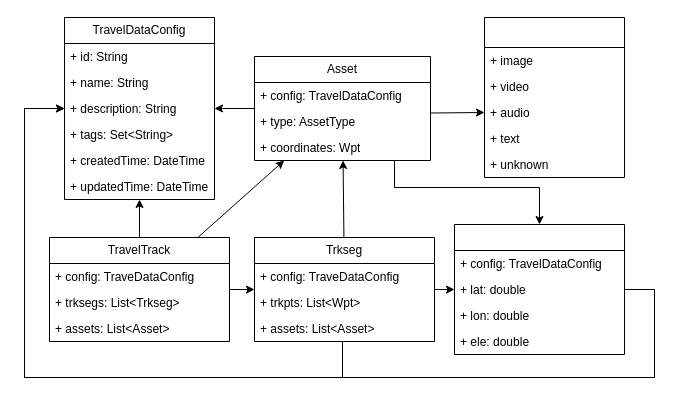
Image size: 680x403. Some labels were removed from this diagram. The shapes that lost their labels are listed below. From the top down, each one's box as (x1, y1, x2, y2) in pixels, then its label:
(484, 16, 624, 178): <<enum>> AssetType
(454, 224, 624, 354): Wpt
